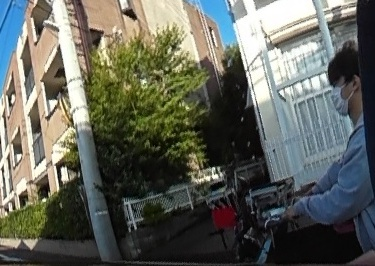person: (310, 42, 375, 256)
